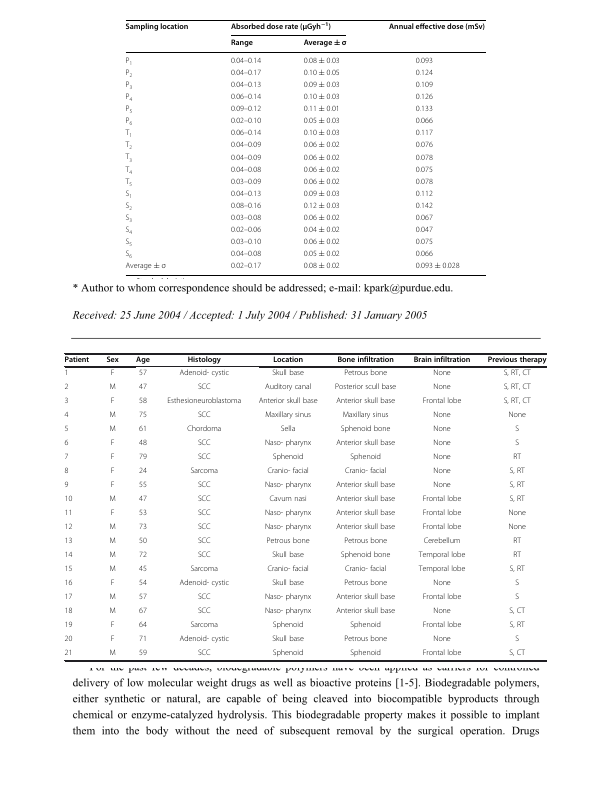borderless: (63, 352, 546, 660), (124, 18, 486, 275)
cell: (230, 21, 332, 32), (388, 22, 486, 32), (166, 397, 242, 407), (125, 22, 189, 32), (334, 383, 397, 393), (335, 397, 396, 407), (335, 439, 396, 449), (335, 481, 396, 491), (335, 495, 396, 505), (335, 509, 396, 519), (335, 523, 396, 533), (335, 593, 396, 603), (335, 607, 396, 617), (258, 397, 318, 407), (487, 356, 547, 365), (336, 356, 395, 365), (413, 356, 471, 365), (178, 369, 230, 379), (178, 579, 230, 589), (178, 635, 230, 645), (340, 425, 391, 435), (340, 551, 391, 561), (264, 383, 312, 393), (264, 411, 312, 421), (264, 439, 312, 449), (264, 481, 312, 491), (264, 509, 312, 519), (264, 523, 312, 533), (418, 551, 466, 561), (418, 565, 466, 575), (264, 593, 312, 603), (264, 607, 312, 617), (342, 411, 389, 421), (343, 369, 388, 379), (343, 537, 388, 547), (343, 579, 388, 589), (343, 635, 388, 645), (266, 467, 310, 477), (266, 537, 310, 547), (266, 565, 310, 575), (303, 38, 347, 48), (344, 467, 387, 477), (344, 565, 387, 575), (415, 262, 461, 271), (422, 397, 462, 407), (268, 495, 308, 505), (422, 495, 462, 505), (422, 509, 462, 519), (422, 523, 462, 533), (422, 593, 462, 603), (422, 621, 462, 631), (422, 649, 462, 659), (124, 262, 167, 271), (423, 537, 461, 547), (303, 56, 341, 66), (303, 68, 341, 78), (303, 177, 341, 187), (303, 189, 341, 199), (186, 425, 222, 435), (303, 81, 341, 90), (303, 93, 341, 102), (303, 105, 341, 114), (303, 117, 341, 126), (303, 129, 341, 138), (303, 141, 341, 150), (303, 153, 341, 162), (303, 165, 341, 174), (303, 202, 341, 211), (303, 214, 341, 223), (303, 226, 341, 235), (303, 238, 341, 247), (303, 250, 341, 259), (303, 262, 341, 271), (271, 369, 305, 379), (271, 551, 305, 561), (271, 579, 305, 589), (271, 635, 305, 645), (349, 453, 382, 463), (349, 621, 382, 631), (349, 649, 382, 659), (272, 453, 304, 463), (272, 621, 304, 631), (272, 649, 304, 659), (230, 56, 262, 66), (230, 68, 262, 78), (230, 177, 262, 187), (230, 189, 262, 199), (187, 356, 222, 365), (189, 467, 219, 477), (189, 565, 219, 575), (189, 621, 219, 631), (503, 369, 532, 379), (503, 383, 532, 393), (503, 397, 532, 407), (272, 356, 304, 365), (230, 81, 262, 90), (230, 93, 262, 102), (230, 105, 262, 114), (230, 117, 262, 126), (230, 129, 262, 138), (230, 141, 262, 150), (230, 153, 262, 162), (230, 165, 262, 174), (230, 202, 262, 211), (230, 214, 262, 223), (230, 226, 262, 235), (230, 238, 262, 247), (230, 250, 262, 259), (230, 262, 262, 271), (230, 38, 254, 48), (64, 356, 90, 365), (432, 369, 452, 379), (432, 383, 452, 393), (432, 411, 452, 421), (507, 411, 527, 421), (432, 425, 452, 435), (432, 439, 452, 449), (432, 453, 452, 463), (432, 467, 452, 477), (432, 481, 452, 491), (507, 509, 527, 519), (507, 523, 527, 533), (432, 579, 452, 589), (432, 607, 452, 617), (432, 635, 452, 645), (415, 56, 434, 66), (415, 68, 434, 78), (415, 177, 434, 187), (415, 189, 434, 199), (508, 607, 526, 617), (508, 649, 526, 659), (415, 81, 434, 90), (415, 93, 434, 102), (415, 105, 434, 114), (415, 117, 434, 126), (415, 129, 434, 138), (415, 141, 434, 150), (415, 153, 434, 162), (415, 165, 434, 174), (415, 202, 434, 211), (415, 214, 434, 223), (415, 226, 434, 235), (415, 238, 434, 247), (415, 250, 434, 259), (509, 467, 526, 477), (509, 481, 526, 491), (509, 495, 526, 505), (509, 565, 526, 575), (509, 621, 526, 631), (280, 425, 296, 435), (135, 356, 151, 365), (197, 383, 211, 393), (197, 411, 211, 421), (197, 439, 211, 449), (197, 453, 211, 463), (197, 481, 211, 491), (197, 495, 211, 505), (197, 509, 211, 519), (197, 523, 211, 533), (197, 537, 211, 547), (197, 551, 211, 561), (197, 593, 211, 603), (197, 607, 211, 617), (197, 649, 211, 659), (105, 356, 120, 365), (138, 369, 148, 379), (138, 383, 148, 393), (138, 397, 148, 407), (138, 411, 148, 421), (138, 425, 148, 435), (138, 439, 148, 449), (138, 453, 148, 463), (512, 453, 522, 463), (138, 467, 148, 477), (138, 481, 148, 491), (138, 495, 148, 505), (138, 509, 148, 519), (138, 523, 148, 533), (138, 537, 148, 547), (512, 537, 522, 547), (138, 551, 148, 561), (512, 551, 522, 561), (138, 565, 148, 575), (138, 579, 148, 589), (138, 593, 148, 603), (138, 607, 148, 617), (138, 621, 148, 631), (138, 635, 148, 645), (138, 649, 148, 659), (124, 129, 133, 140), (124, 141, 133, 152), (124, 153, 133, 164), (124, 165, 133, 176), (124, 177, 133, 188), (124, 189, 133, 200), (124, 238, 133, 249), (124, 250, 133, 261), (108, 383, 117, 393), (108, 411, 117, 421), (108, 425, 117, 435), (64, 495, 73, 505), (108, 495, 117, 505), (64, 509, 73, 519), (64, 523, 73, 533), (108, 523, 117, 533), (64, 537, 73, 547), (108, 537, 117, 547), (64, 551, 73, 561), (108, 551, 117, 561), (64, 565, 73, 575), (108, 565, 117, 575), (64, 579, 73, 589), (64, 593, 73, 603), (108, 593, 117, 603), (64, 607, 73, 617), (108, 607, 117, 617), (64, 621, 73, 631), (64, 635, 73, 645), (64, 649, 73, 659), (108, 649, 117, 659), (124, 202, 133, 212), (124, 214, 133, 224), (124, 226, 133, 236), (125, 56, 133, 67), (125, 68, 133, 79), (125, 117, 133, 128), (125, 81, 133, 91), (125, 93, 133, 103), (125, 105, 133, 115), (514, 425, 520, 435), (514, 439, 520, 449), (514, 579, 520, 589), (514, 593, 520, 603), (514, 635, 520, 645), (64, 369, 69, 379), (110, 369, 115, 379), (64, 383, 69, 393), (64, 397, 69, 407), (110, 397, 115, 407), (64, 411, 69, 421), (64, 425, 69, 435), (64, 439, 69, 449), (110, 439, 115, 449), (64, 453, 69, 463), (110, 453, 115, 463), (64, 467, 69, 477), (110, 467, 115, 477), (64, 481, 69, 491), (110, 481, 115, 491), (110, 509, 115, 519), (110, 579, 115, 589), (110, 621, 115, 631), (110, 635, 115, 645)
